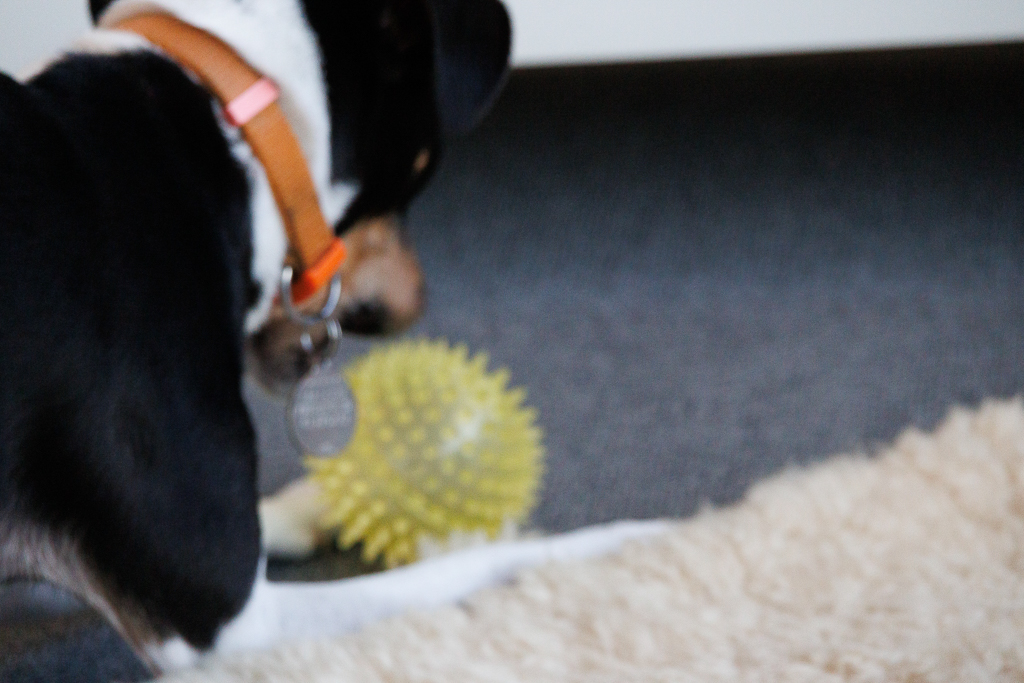Dog: (0, 0, 705, 683)
